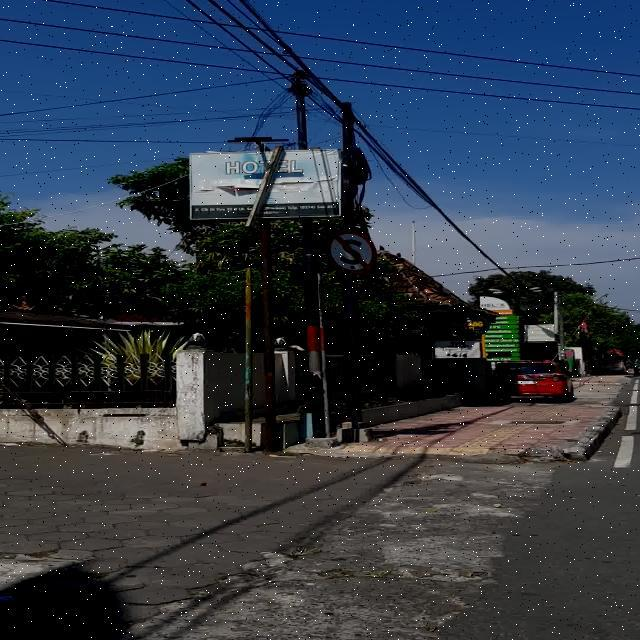Dilarang Berhenti: (326, 228, 376, 274)
